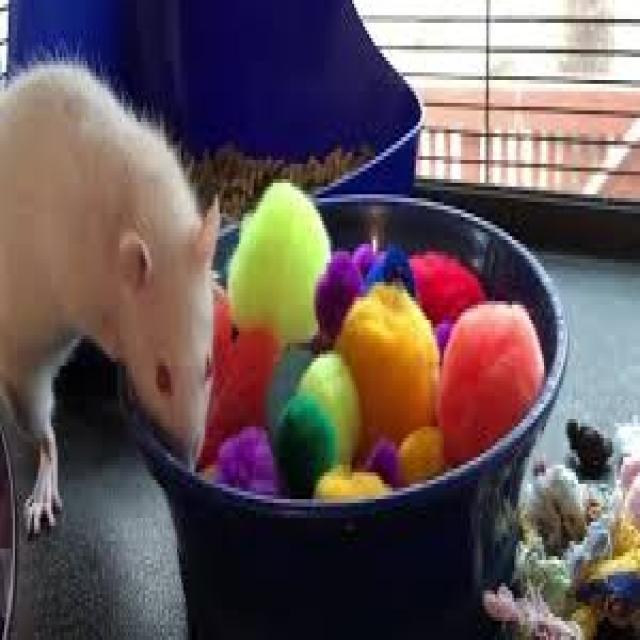Rat: (0, 31, 227, 471)
